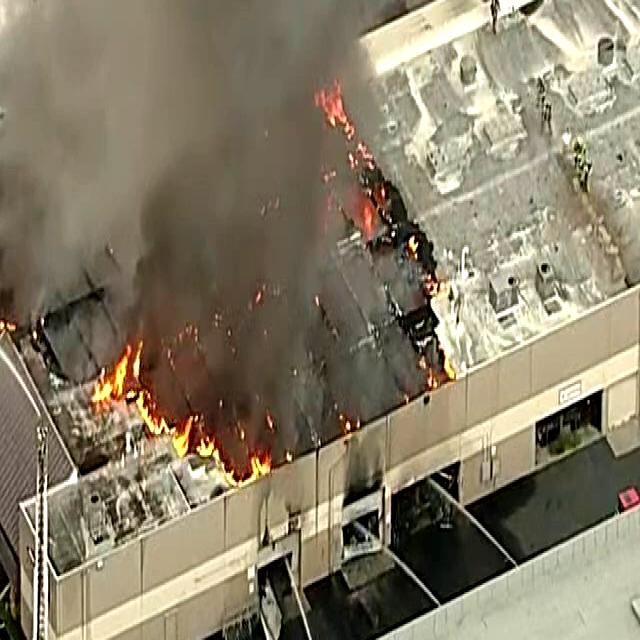smoke: (57, 0, 348, 222)
